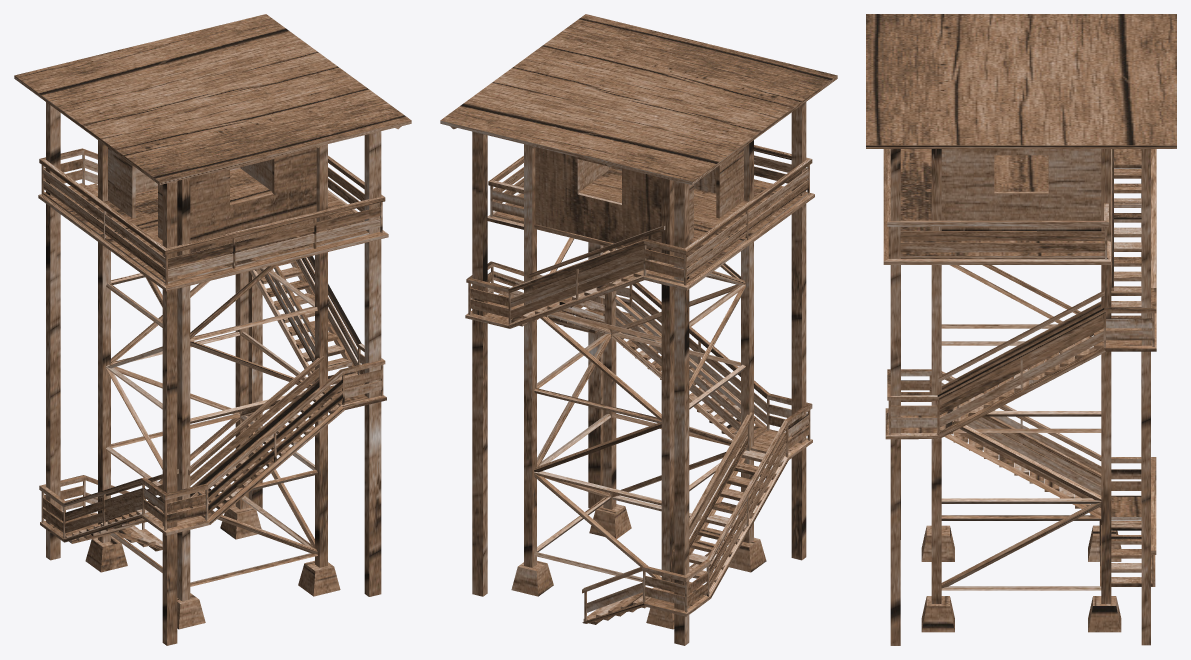
File: wooden.obj
The picture shows the model from 3 angles, left to right: view 1: azimuth 30°, elevation 25°; view 2: azimuth 150°, elevation 25°; view 3: azimuth 270°, elevation 25°; orthographic projection. The views are drawn at different scales.
Parts seen in each view (by area): view 1: watchtowerHigh_watchtower; view 2: watchtowerHigh_watchtower; view 3: watchtowerHigh_watchtower.
Boxes of the visible parts, left/top/right/bottom form: watchtowerHigh_watchtower: left=14, top=14, right=411, bottom=645; watchtowerHigh_watchtower: left=440, top=14, right=837, bottom=645; watchtowerHigh_watchtower: left=866, top=14, right=1176, bottom=645.
Bounding box in the file's own units: 4.22 × 7.65 × 4.22.
